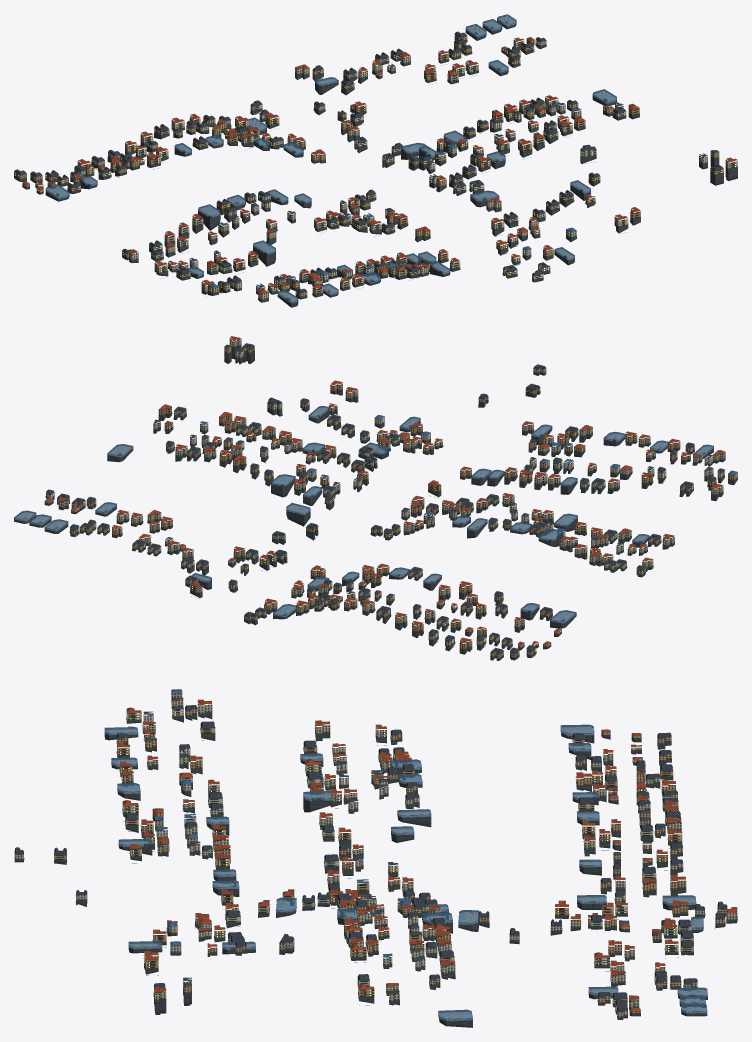
File: osm_buildings_T_W01_N02_Q1.glb
3 views of the same model, one above another, from view 1: azimuth 30°, elevation 25°; view 2: azimuth 150°, elevation 25°; view 3: azimuth 270°, elevation 25° (orthographic). The views are drawn at different scales.
Visible parts, largest first — view 1: OSM_T_W01_N02_Q1_foundation, OSM_T_W01_N02_Q1_wall_cream_stucco, OSM_T_W01_N02_Q1_wall_french_ochre, OSM_T_W01_N02_Q1_greenhouse_blend, OSM_T_W01_N02_Q1_roof_terracotta, OSM_T_W01_N02_Q1_roof_mansard_slate, OSM_T_W01_N02_Q1_roof_mansard_deck, OSM_T_W01_N02_Q1_roof_mint_metal, OSM_T_W01_N02_Q1_balcony_railing, OSM_T_W01_N02_Q1_window_emissive_warm, OSM_T_W01_N02_Q1_wall_pastel_sand, OSM_T_W01_N02_Q1_wall_warm_white (+1 smaller); view 2: OSM_T_W01_N02_Q1_foundation, OSM_T_W01_N02_Q1_wall_cream_stucco, OSM_T_W01_N02_Q1_wall_french_ochre, OSM_T_W01_N02_Q1_greenhouse_blend, OSM_T_W01_N02_Q1_roof_terracotta, OSM_T_W01_N02_Q1_roof_mansard_slate, OSM_T_W01_N02_Q1_roof_mansard_deck, OSM_T_W01_N02_Q1_roof_mint_metal, OSM_T_W01_N02_Q1_trim_cornice, OSM_T_W01_N02_Q1_window_emissive_warm, OSM_T_W01_N02_Q1_wall_pastel_sand, OSM_T_W01_N02_Q1_wall_warm_white (+1 smaller); view 3: OSM_T_W01_N02_Q1_foundation, OSM_T_W01_N02_Q1_wall_cream_stucco, OSM_T_W01_N02_Q1_wall_french_ochre, OSM_T_W01_N02_Q1_greenhouse_blend, OSM_T_W01_N02_Q1_roof_terracotta, OSM_T_W01_N02_Q1_roof_mansard_slate, OSM_T_W01_N02_Q1_roof_mansard_deck, OSM_T_W01_N02_Q1_trim_cornice, OSM_T_W01_N02_Q1_roof_mint_metal, OSM_T_W01_N02_Q1_window_emissive_warm, OSM_T_W01_N02_Q1_wall_pastel_sand, OSM_T_W01_N02_Q1_balcony_railing (+2 smaller).
Boxes of the visible parts, <box> form: OSM_T_W01_N02_Q1_foundation: <box>14,20,737,307</box>; OSM_T_W01_N02_Q1_wall_cream_stucco: <box>22,39,737,300</box>; OSM_T_W01_N02_Q1_wall_french_ochre: <box>14,34,723,296</box>; OSM_T_W01_N02_Q1_greenhouse_blend: <box>45,14,616,303</box>; OSM_T_W01_N02_Q1_roof_terracotta: <box>22,37,737,294</box>; OSM_T_W01_N02_Q1_roof_mansard_slate: <box>14,32,723,293</box>; OSM_T_W01_N02_Q1_roof_mansard_deck: <box>16,19,721,302</box>; OSM_T_W01_N02_Q1_roof_mint_metal: <box>14,38,737,300</box>; OSM_T_W01_N02_Q1_balcony_railing: <box>14,43,736,298</box>; OSM_T_W01_N02_Q1_window_emissive_warm: <box>15,18,735,299</box>; OSM_T_W01_N02_Q1_wall_pastel_sand: <box>36,48,707,292</box>; OSM_T_W01_N02_Q1_wall_warm_white: <box>136,121,515,286</box>; OSM_T_W01_N02_Q1_foundation: <box>14,345,737,660</box>; OSM_T_W01_N02_Q1_wall_cream_stucco: <box>46,338,725,646</box>; OSM_T_W01_N02_Q1_wall_french_ochre: <box>44,346,737,658</box>; OSM_T_W01_N02_Q1_greenhouse_blend: <box>14,406,713,623</box>; OSM_T_W01_N02_Q1_roof_terracotta: <box>45,336,725,645</box>; OSM_T_W01_N02_Q1_roof_mansard_slate: <box>46,344,724,654</box>; OSM_T_W01_N02_Q1_roof_mansard_deck: <box>14,343,714,652</box>; OSM_T_W01_N02_Q1_roof_mint_metal: <box>46,347,724,658</box>; OSM_T_W01_N02_Q1_trim_cornice: <box>52,338,736,656</box>; OSM_T_W01_N02_Q1_window_emissive_warm: <box>21,352,737,656</box>; OSM_T_W01_N02_Q1_wall_pastel_sand: <box>71,350,713,647</box>; OSM_T_W01_N02_Q1_wall_warm_white: <box>260,440,666,609</box>; OSM_T_W01_N02_Q1_foundation: <box>14,700,737,1027</box>; OSM_T_W01_N02_Q1_wall_cream_stucco: <box>14,699,737,1016</box>; OSM_T_W01_N02_Q1_wall_french_ochre: <box>54,693,726,1013</box>; OSM_T_W01_N02_Q1_greenhouse_blend: <box>104,724,707,1020</box>; OSM_T_W01_N02_Q1_roof_terracotta: <box>117,699,737,1010</box>; OSM_T_W01_N02_Q1_roof_mansard_slate: <box>14,697,727,1012</box>; OSM_T_W01_N02_Q1_roof_mansard_deck: <box>15,705,726,1020</box>; OSM_T_W01_N02_Q1_trim_cornice: <box>15,693,737,1014</box>; OSM_T_W01_N02_Q1_roof_mint_metal: <box>15,714,736,1017</box>; OSM_T_W01_N02_Q1_window_emissive_warm: <box>109,705,737,1016</box>; OSM_T_W01_N02_Q1_wall_pastel_sand: <box>143,708,642,1000</box>; OSM_T_W01_N02_Q1_balcony_railing: <box>75,705,737,1001</box>.
Bounding box in the file's own units: 926 × 114 × 912.
16 materials, 16 textured.
